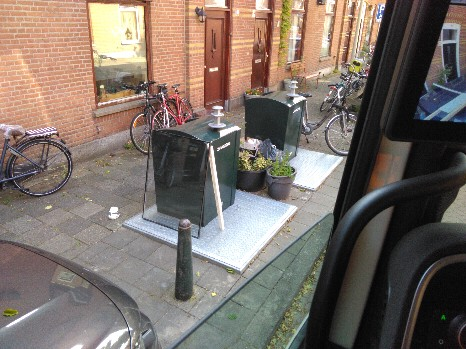Container: (182, 118, 238, 218), (256, 92, 302, 146)
GFT: (242, 139, 261, 187), (267, 159, 286, 199)
Glas: (151, 131, 193, 234)
Voertuig: (12, 122, 72, 199), (315, 84, 360, 147), (138, 92, 185, 126), (341, 58, 375, 89)
